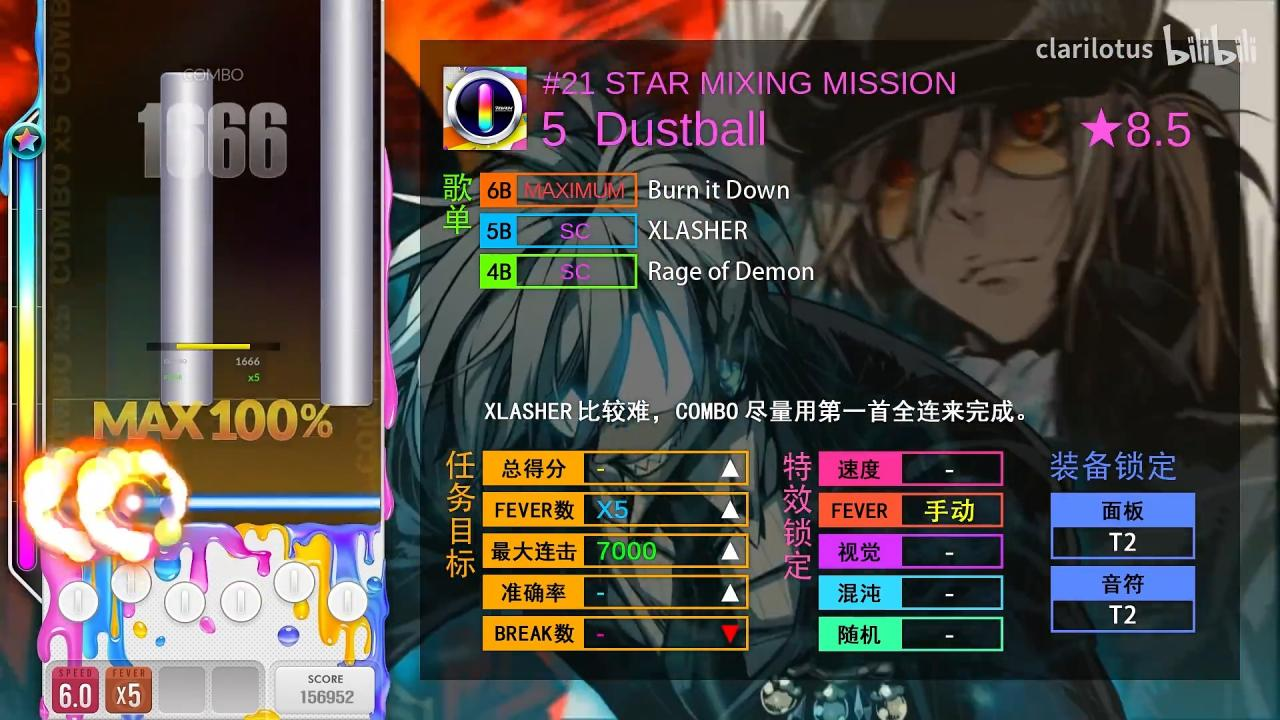hold-end: (161, 72, 213, 84)
hold-start: (159, 394, 213, 406), (320, 394, 374, 406)
